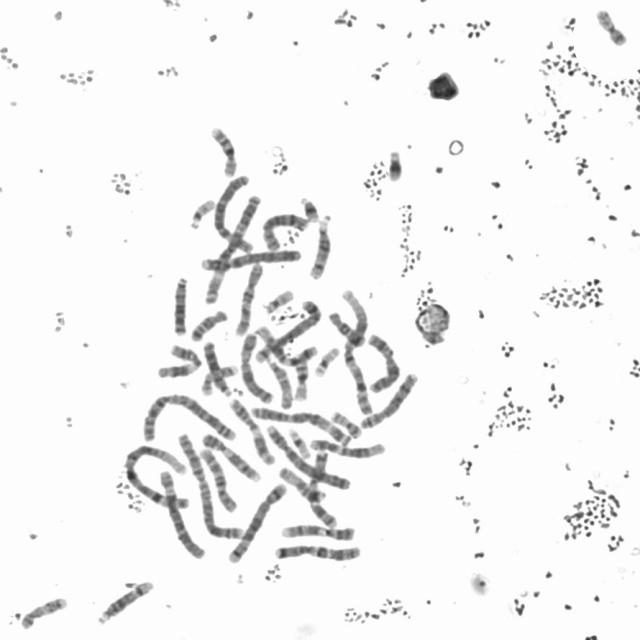A1: (120, 439, 194, 511), (336, 284, 374, 416)
A2: (170, 426, 244, 542), (135, 387, 240, 444)
A3: (198, 189, 262, 306), (246, 402, 354, 446)
B4: (261, 420, 352, 491), (195, 244, 305, 273)
B5: (222, 476, 288, 564), (250, 294, 324, 365)
C10: (194, 440, 238, 514), (230, 258, 266, 337)
C11: (224, 394, 276, 466), (152, 339, 203, 380)
C12: (250, 320, 320, 366), (305, 434, 386, 459)
C6: (154, 464, 207, 560), (209, 169, 256, 254)
C7: (303, 445, 339, 529), (270, 539, 364, 562)
C8: (356, 368, 421, 430), (257, 207, 311, 252)
C9: (197, 428, 264, 483), (277, 520, 358, 542)
D13: (198, 337, 234, 398), (168, 270, 190, 336)
D14: (92, 575, 155, 627), (304, 210, 334, 281)
D15: (275, 462, 328, 503), (263, 353, 294, 410)
E16: (206, 121, 238, 178), (288, 352, 311, 402)
E17: (15, 591, 69, 631), (197, 360, 239, 396)
E18: (324, 306, 368, 347), (186, 305, 228, 342)
F19: (310, 341, 342, 378), (285, 424, 312, 458)
F20: (591, 3, 629, 47), (327, 406, 364, 439)
G21: (383, 145, 405, 183), (296, 192, 321, 222)
G22: (184, 193, 217, 230), (259, 284, 295, 314)
X: (235, 328, 276, 405), (362, 329, 401, 393)
